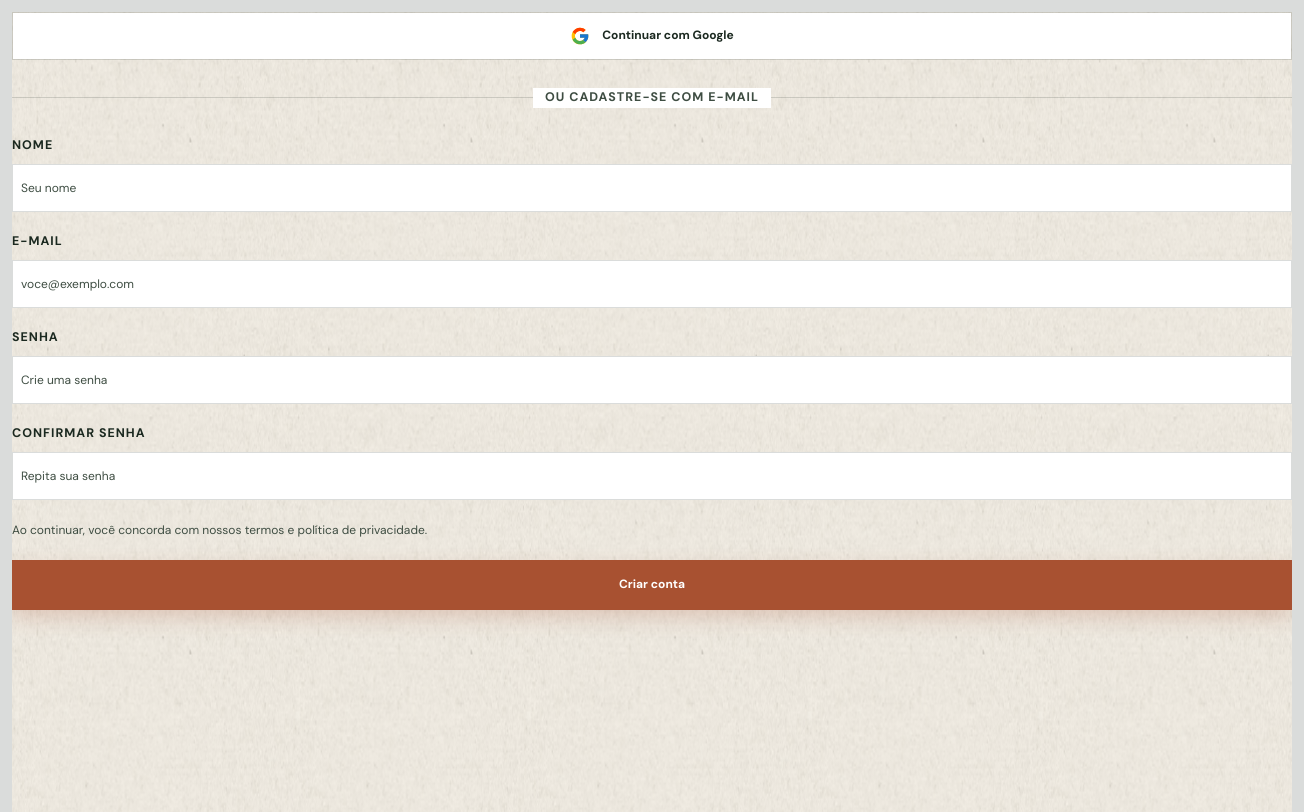
Test case: SignUpForm (components/auth) › valida nome obrigatório via Zod
Type "teste@email.com" into the field with placeholder "voce@exemplo.com" at (652, 284), box [12,260,1292,308]
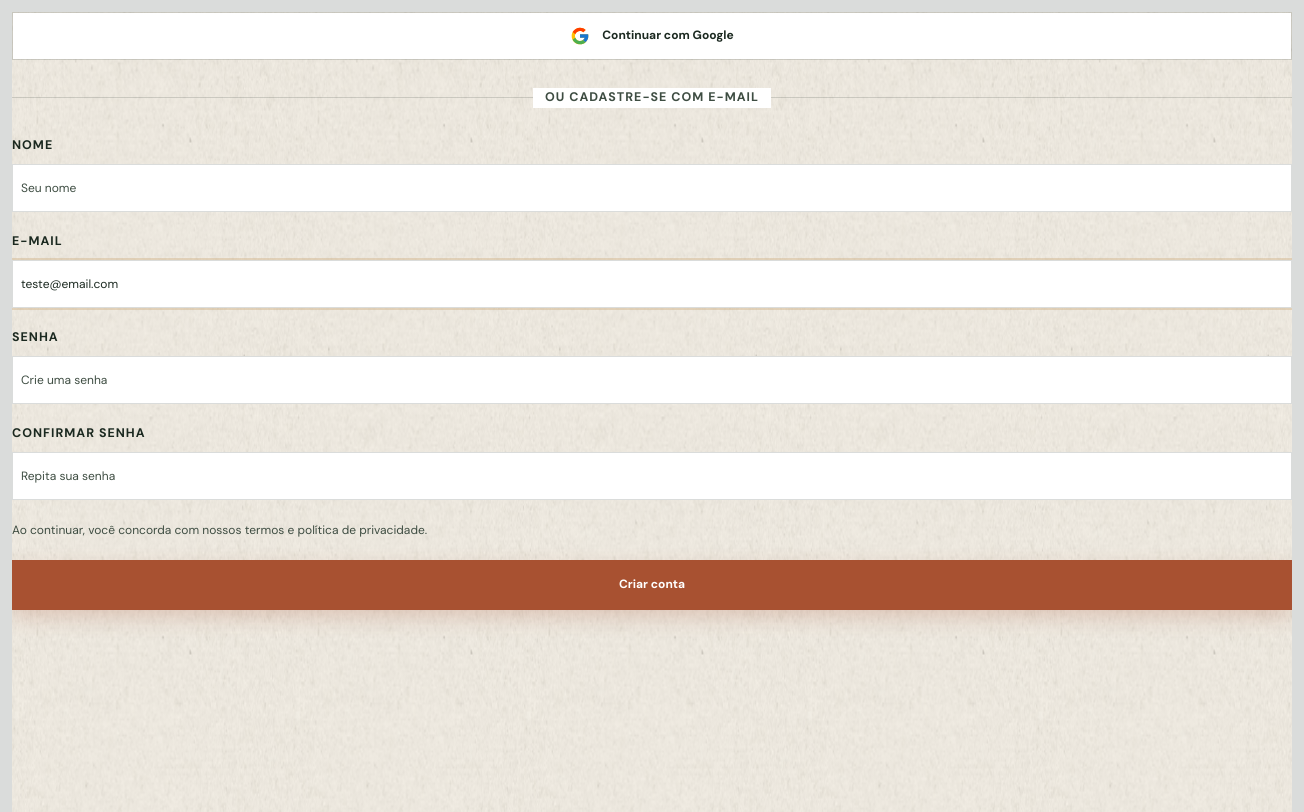
Type "12345678" into the password field with placeholder "Crie uma senha" at (652, 380), box [12,356,1292,404]
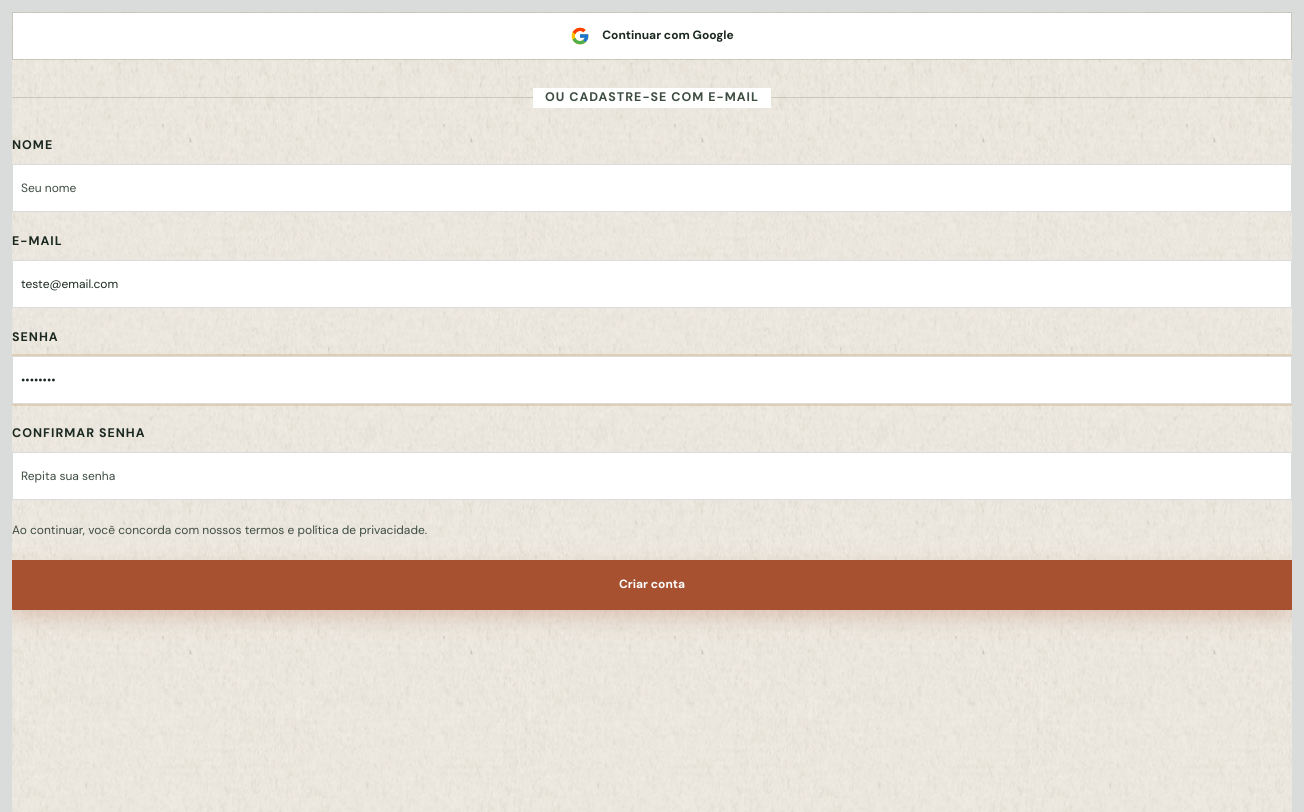
Type "12345678" into the password field with placeholder "Repita sua senha" at (652, 476), box [12,452,1292,500]
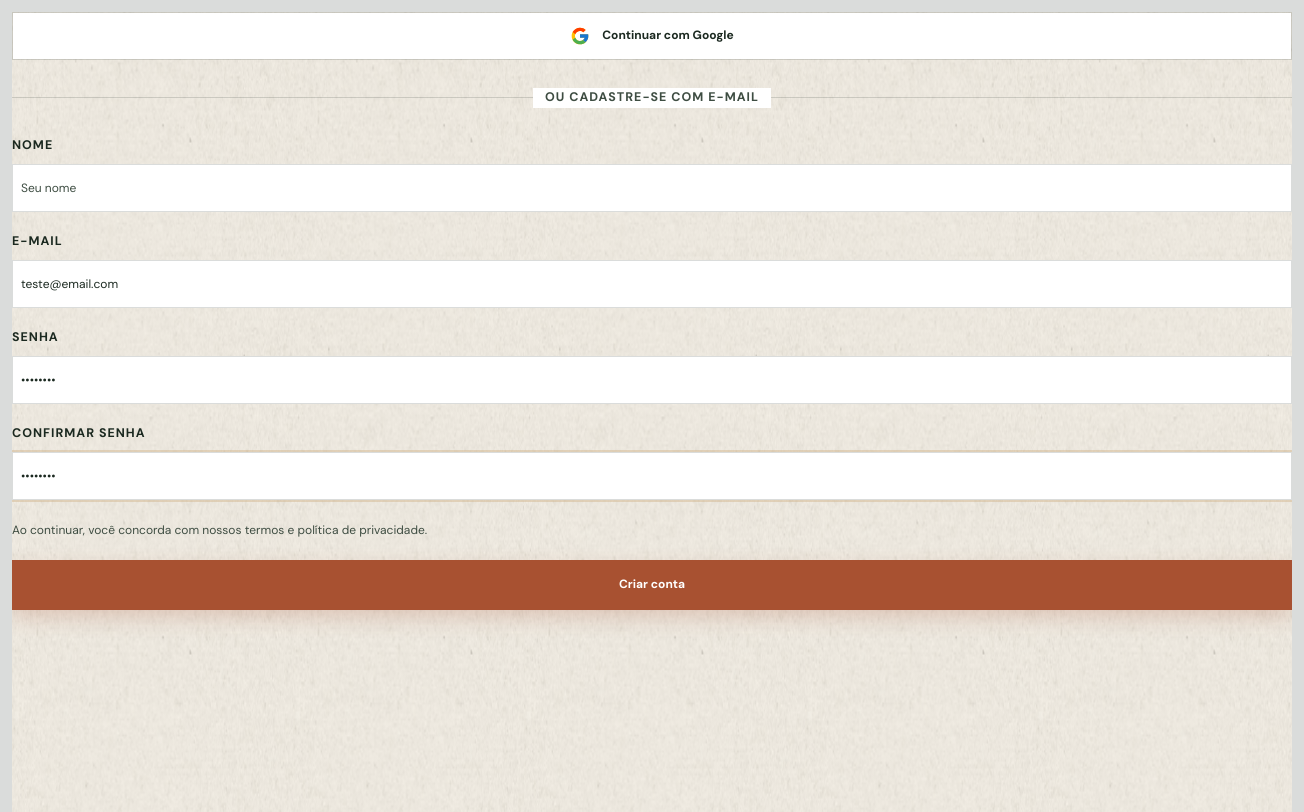
Click the button "Criar conta" at (652, 585), box [12,560,1292,610]
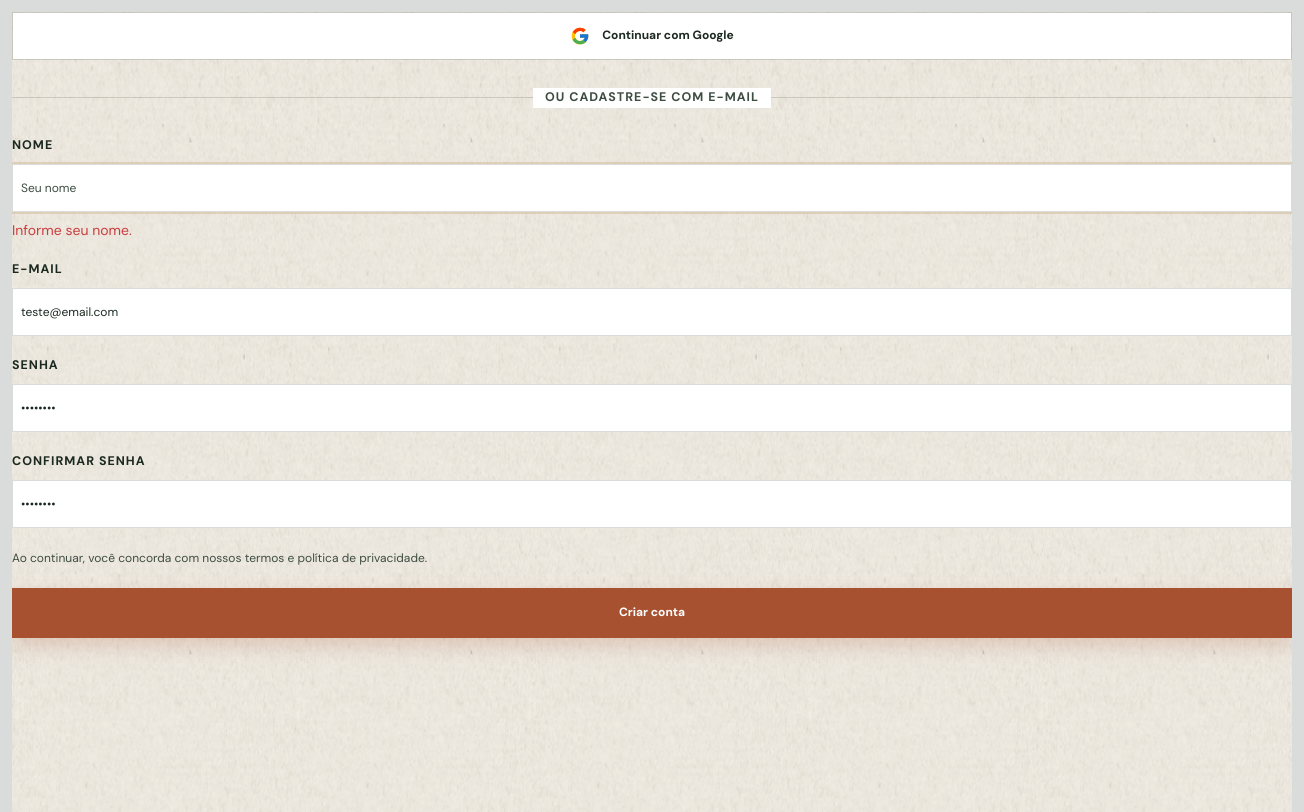
Result: the text "Informe seu nome." is shown at [12,221,132,239]
